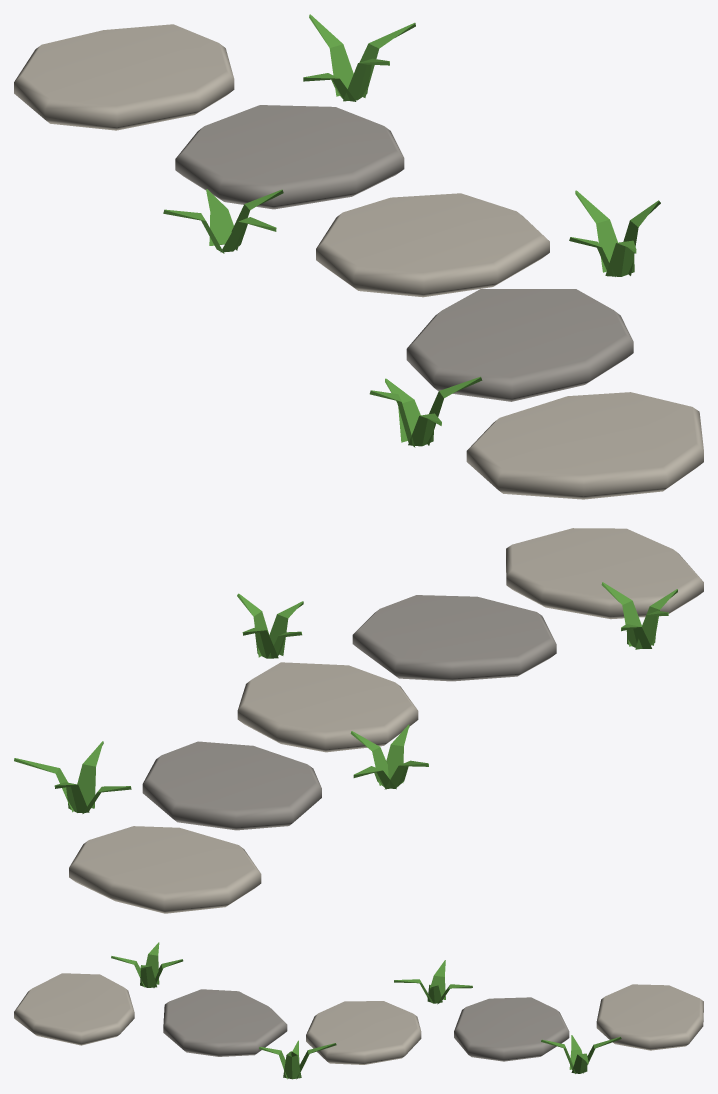
Rendered from stepping-stones.glb.
The picture shows the model from 3 angles, top to bottom: view 1: azimuth 30°, elevation 25°; view 2: azimuth 150°, elevation 25°; view 3: azimuth 270°, elevation 25°; orthographic projection. The views are drawn at different scales.
Visible parts, largest first — view 1: SteppingStones_StoneLight, SteppingStones_Stone, SteppingStones_Grass; view 2: SteppingStones_StoneLight, SteppingStones_Stone, SteppingStones_Grass; view 3: SteppingStones_StoneLight, SteppingStones_Stone, SteppingStones_Grass.
Part boxes in pixels (left/top/right/bottom): SteppingStones_StoneLight: left=14, top=24, right=703, bottom=499; SteppingStones_Stone: left=175, top=105, right=633, bottom=401; SteppingStones_Grass: left=163, top=14, right=660, bottom=447; SteppingStones_StoneLight: left=69, top=528, right=703, bottom=913; SteppingStones_Stone: left=142, top=595, right=556, bottom=830; SteppingStones_Grass: left=14, top=582, right=677, bottom=813; SteppingStones_StoneLight: left=14, top=973, right=703, bottom=1064; SteppingStones_Stone: left=163, top=989, right=569, bottom=1061; SteppingStones_Grass: left=111, top=942, right=621, bottom=1079.
Bounding box in the file's own units: 3.9 × 0.5747 × 9.64.
